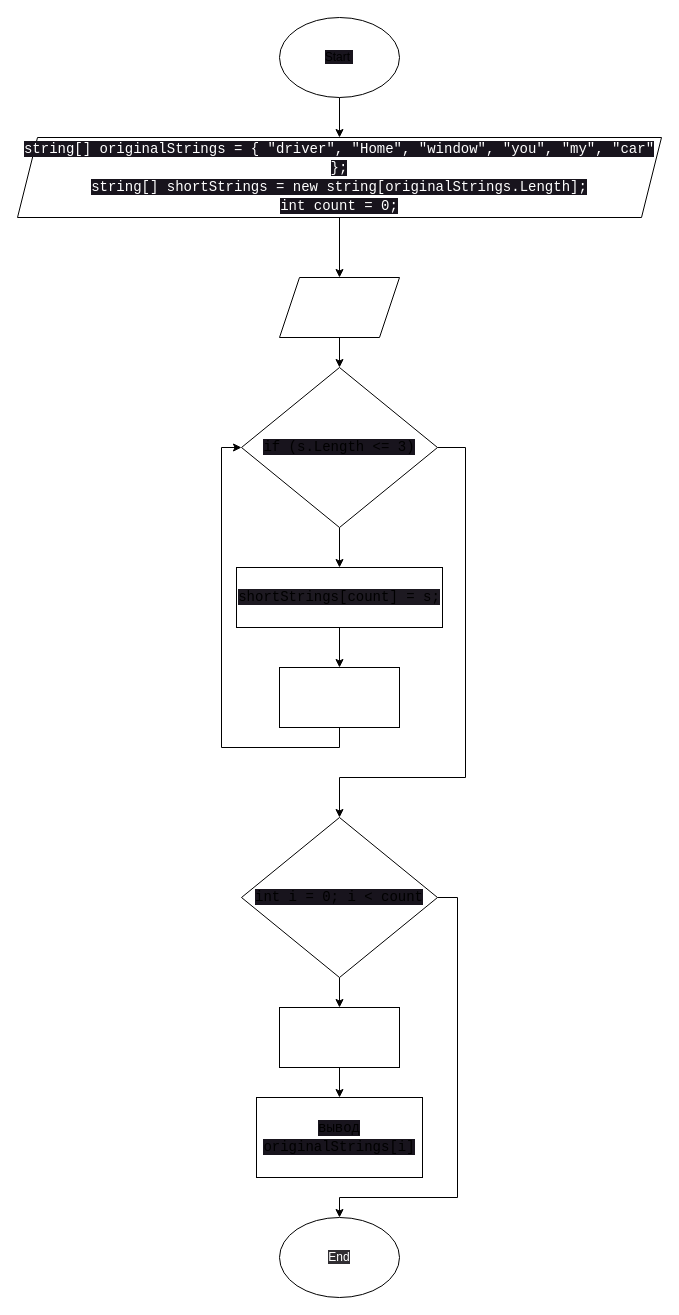
This 679x1315 diagram has some shape labels left out. The shapes that lost their labels are listed below. From the top down, each one's centre as x and y in pixels, then its label:
the point at 339,307: s вывод s
the point at 339,697: count++;
the point at 339,1037: i++
